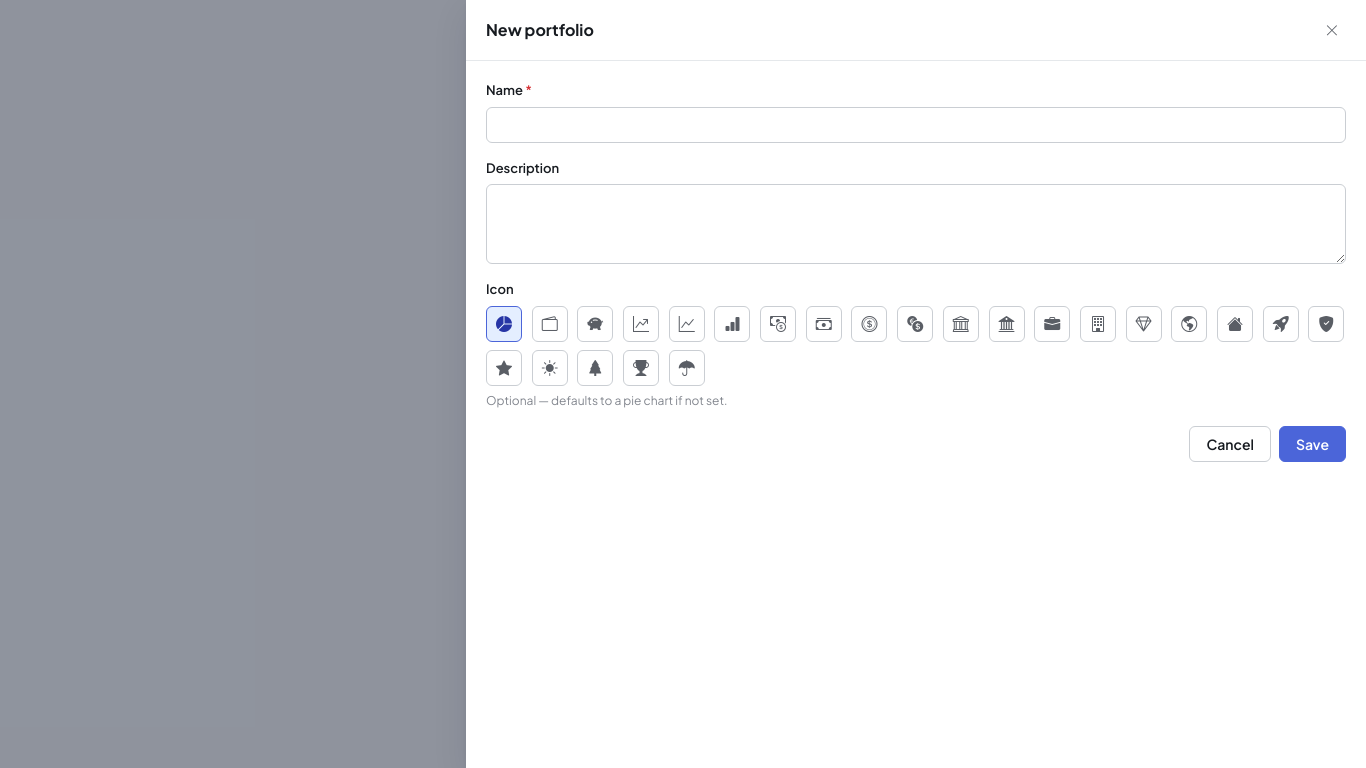
it: CreatePortfolioDrawer › surfaces a create error and stays open
In the field labelled "Name": (916,124) [486,106,1346,142], type "Growth"
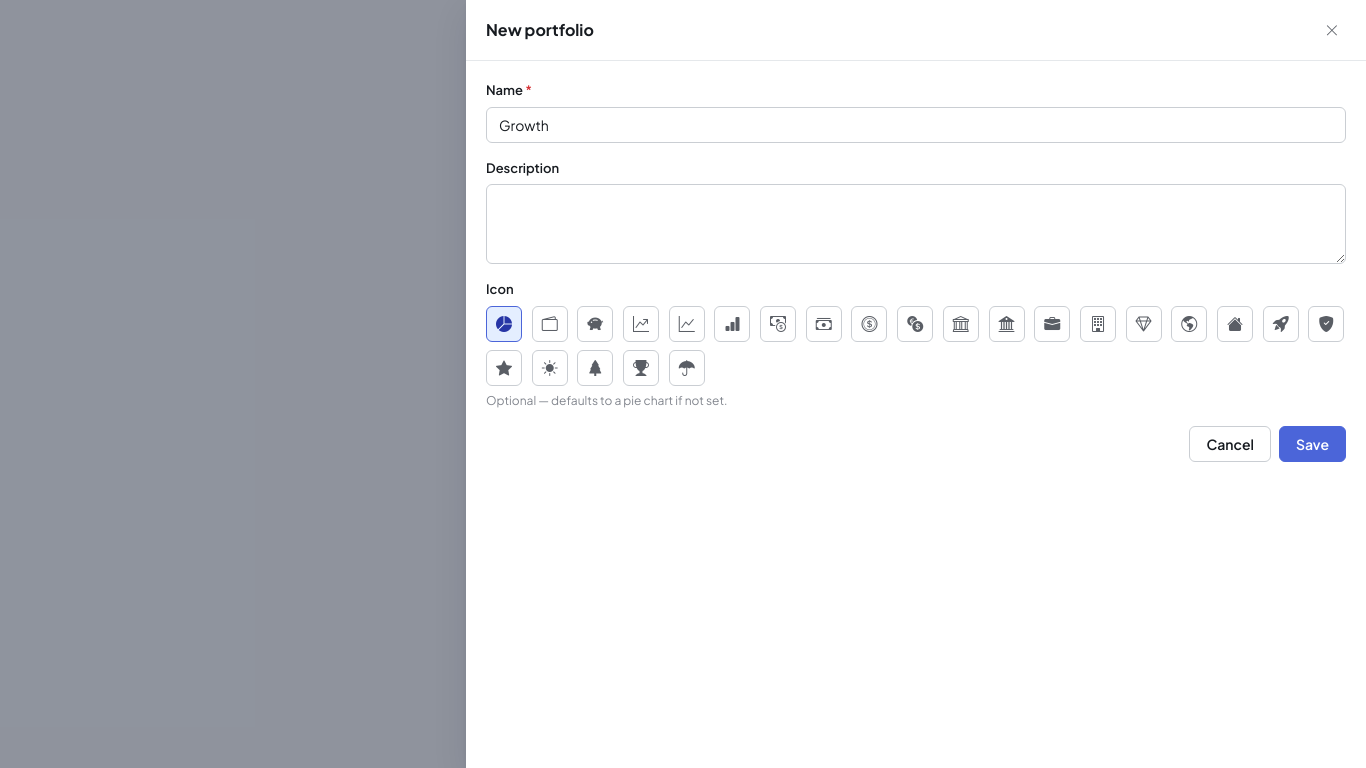
In the text box labelled "Description": (916,224) [486,184,1346,264], type "x"
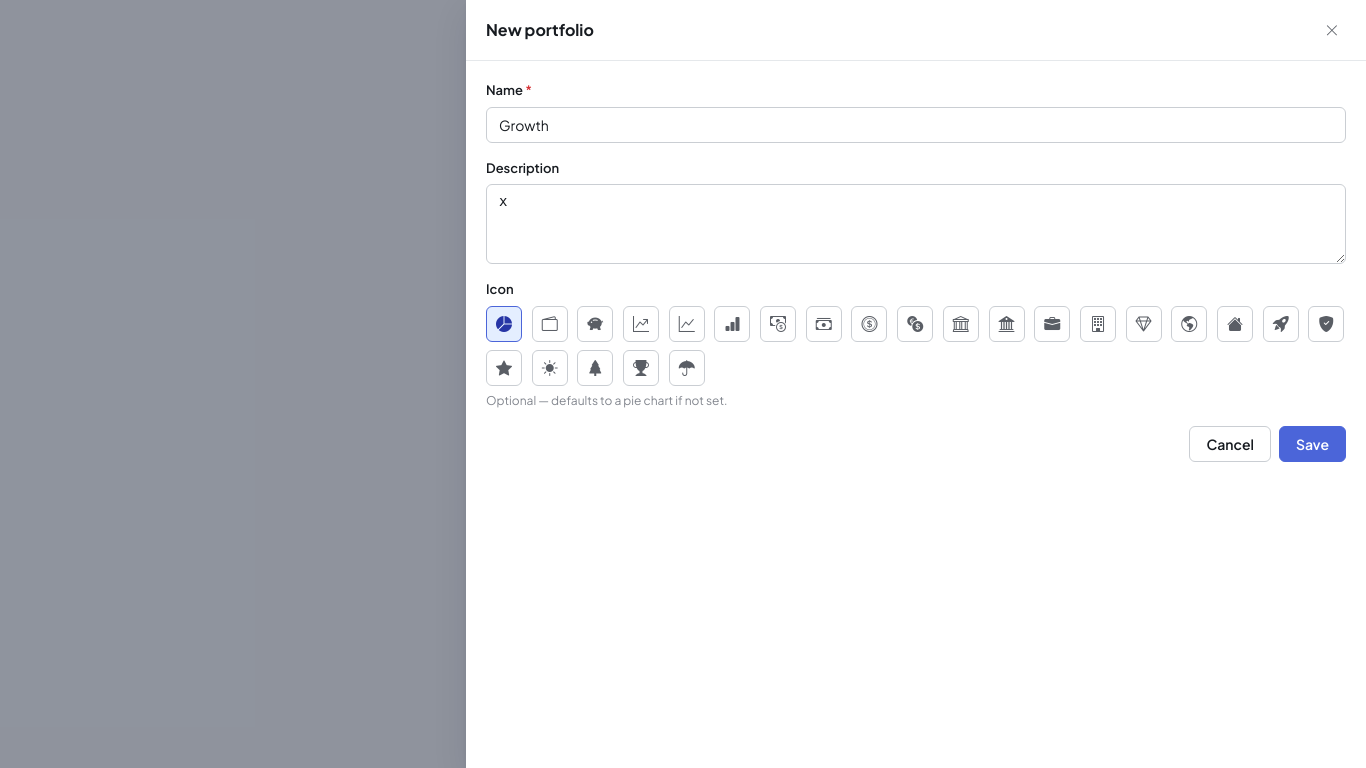
Click the button "Save": (1312,444) [1279,426,1346,462]
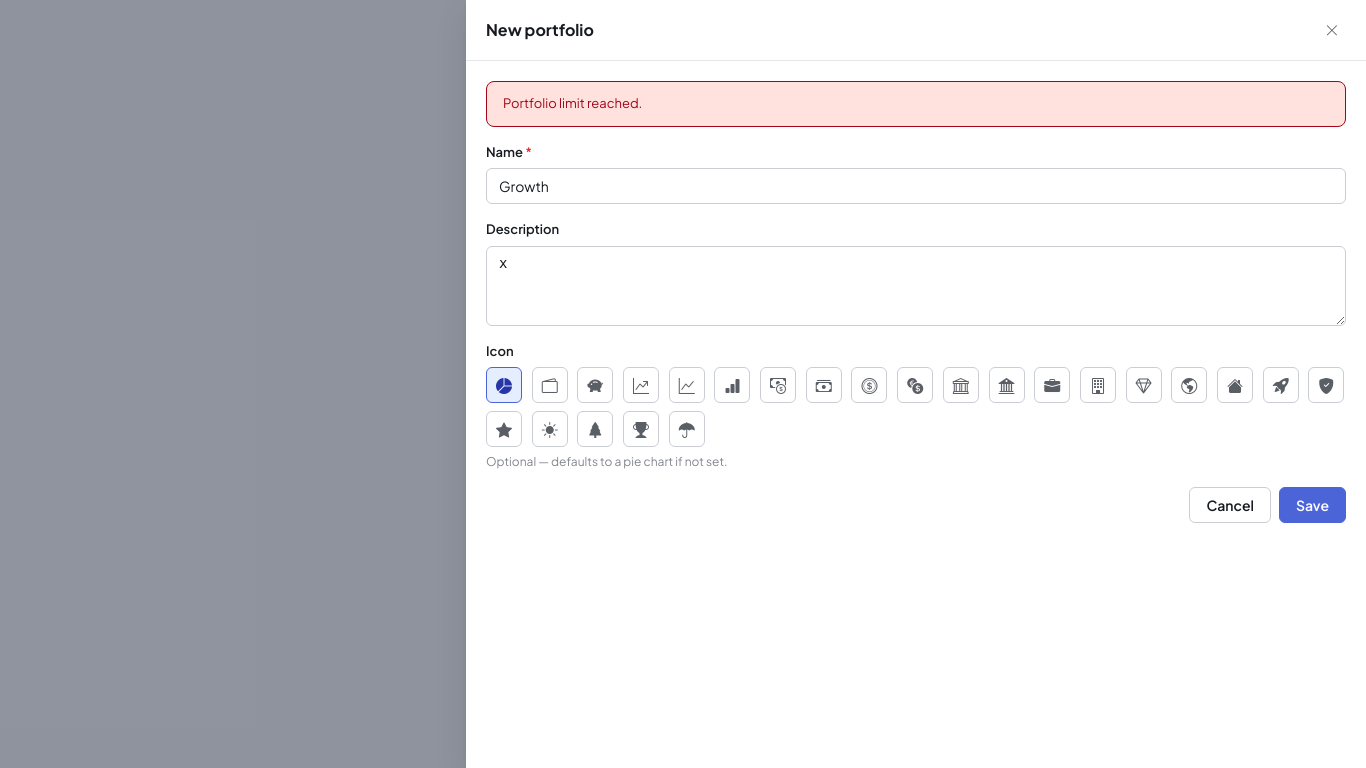
Check: the heading "New portfolio" is shown, box [486,18,594,42]
Check: the message reads "Portfolio limit reached.", box [503,95,642,111]
